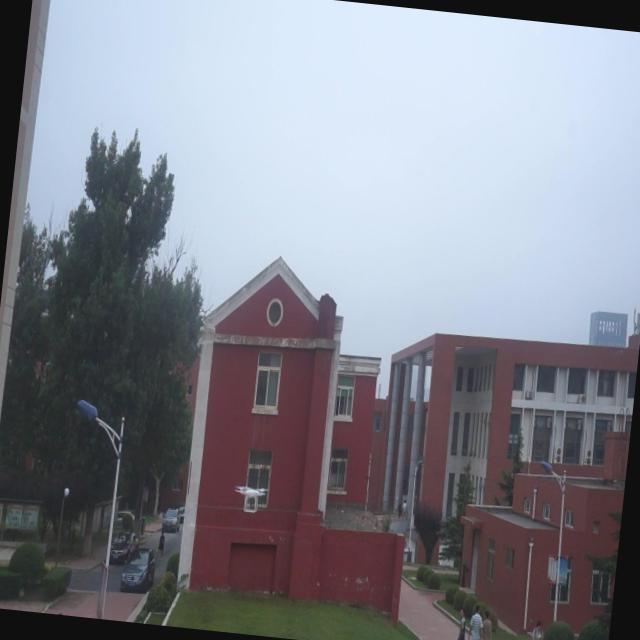drone: (230, 475, 270, 517)
